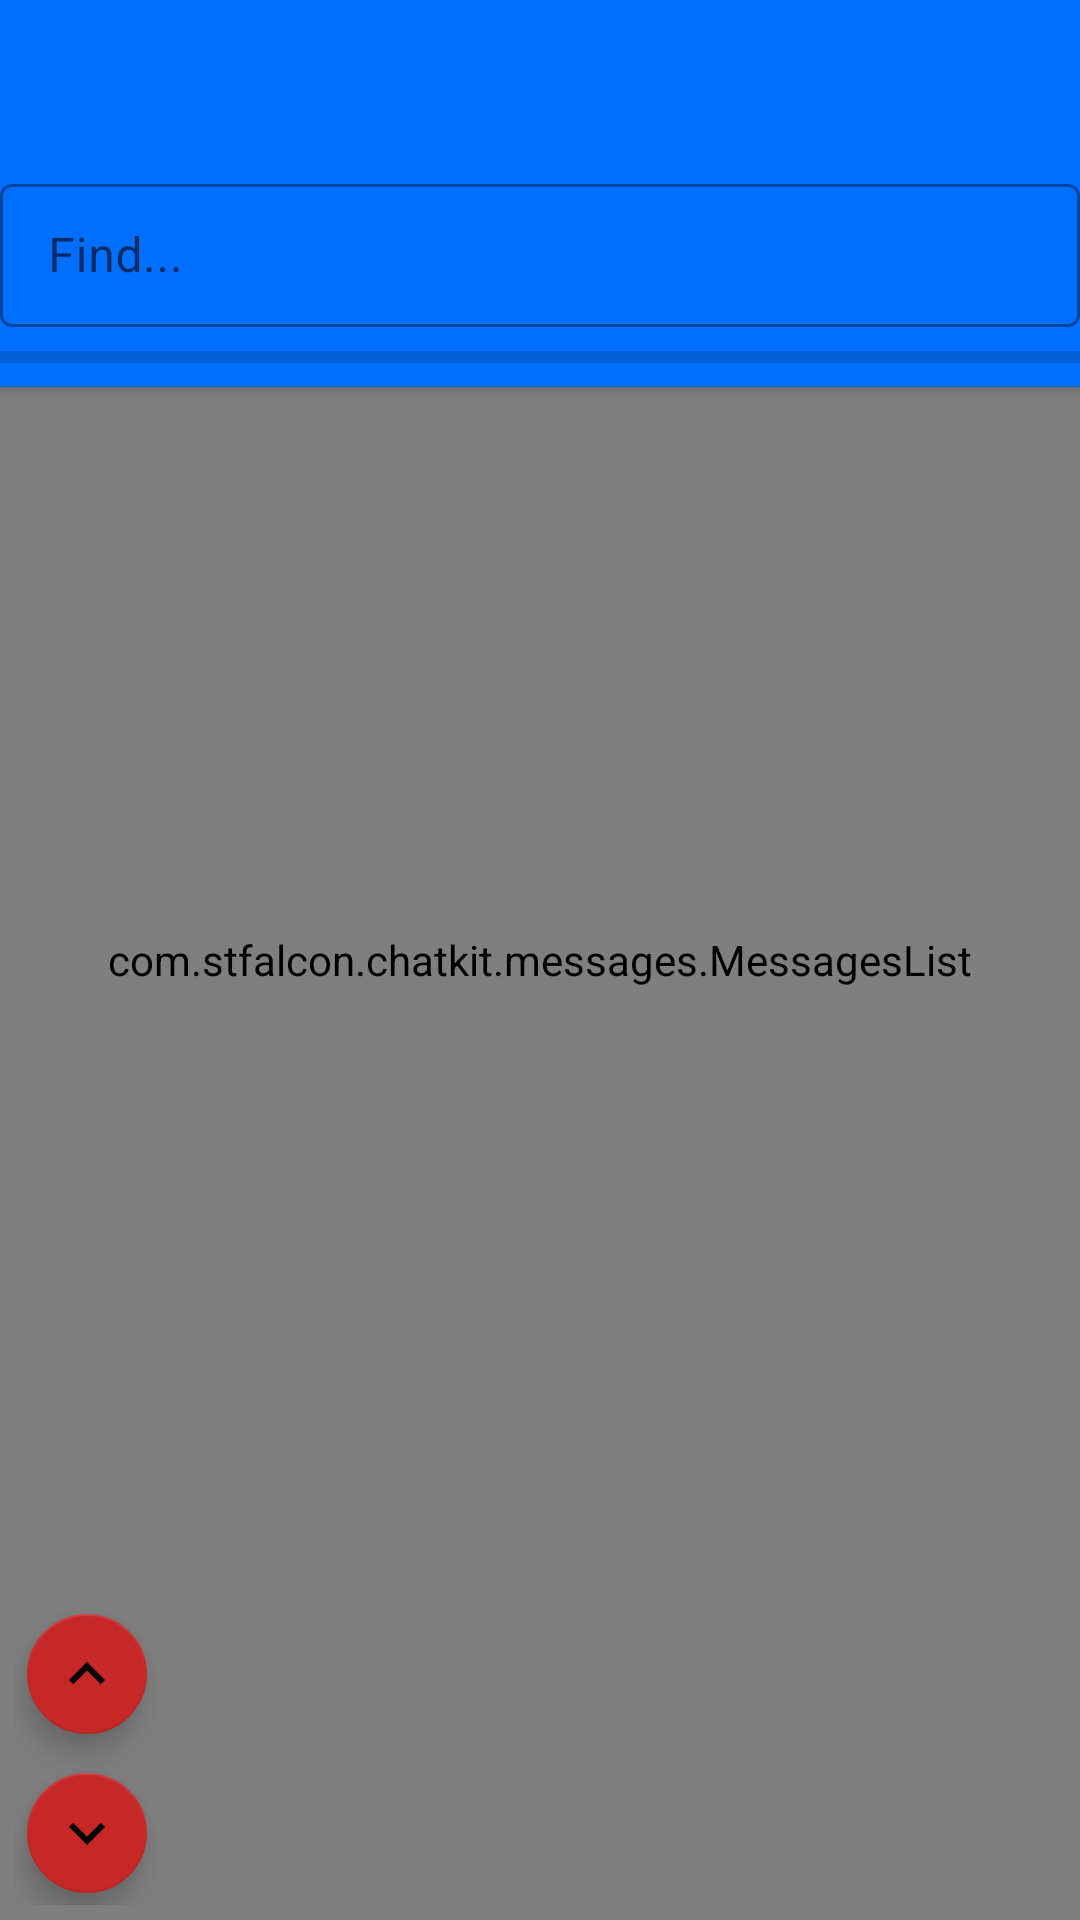

Where icons sit on this 1080x1920 app screen, as bbox=(x1, y1, x2, y2):
keyboard arrow down: bbox=(27, 1773, 147, 1893)
keyboard arrow up: bbox=(27, 1614, 147, 1734)
